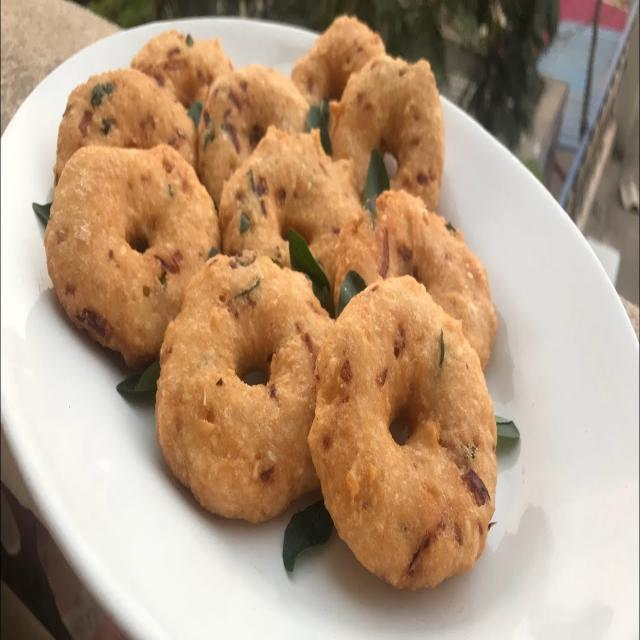Vada: (300, 268, 499, 593), (154, 252, 334, 527), (43, 142, 220, 369), (373, 188, 500, 370), (332, 52, 446, 213), (55, 68, 190, 173), (288, 15, 388, 102)
